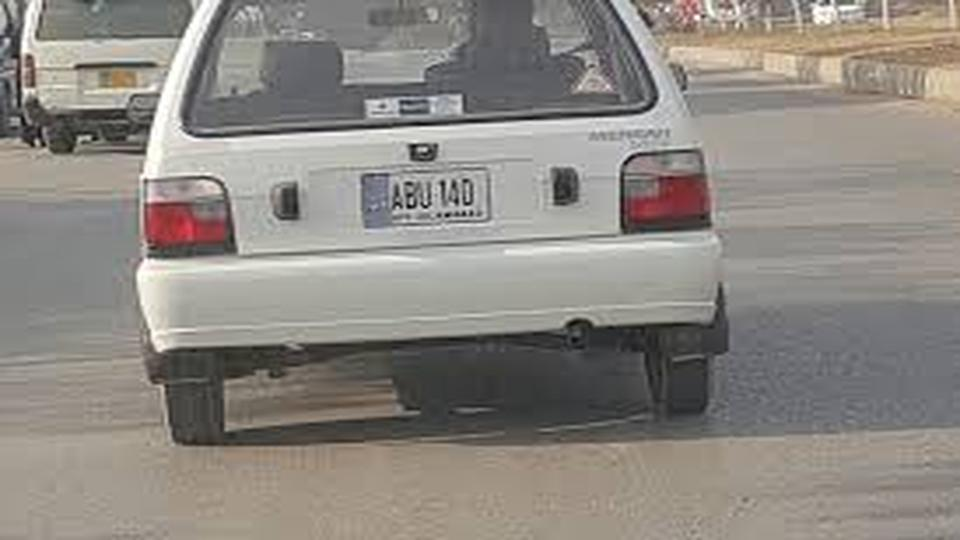NumberPlate: (364, 171, 497, 228), (93, 69, 141, 95)
